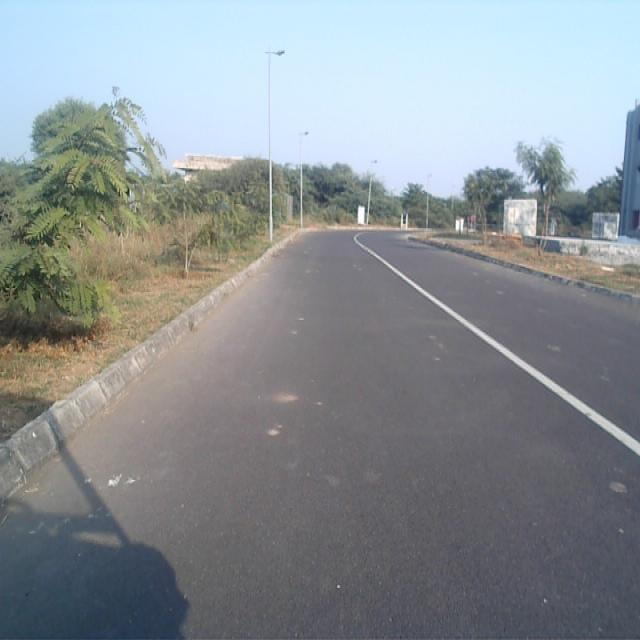lane: (0, 232, 640, 640)
